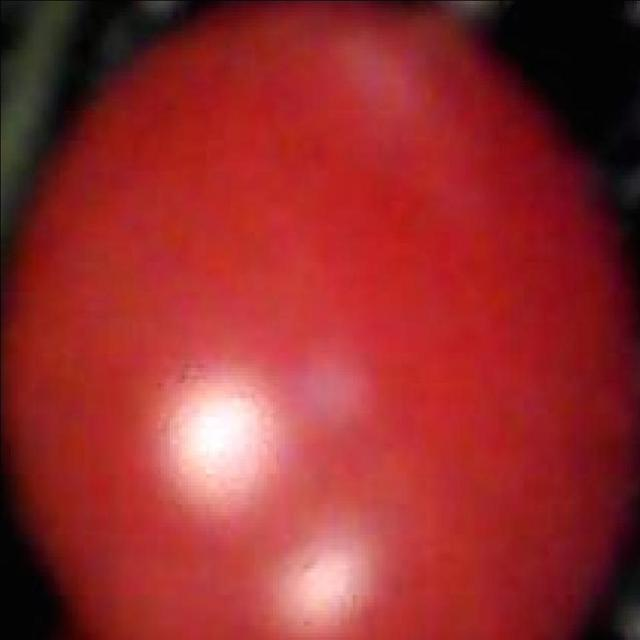Healthy Fruit: (0, 0, 417, 427)
